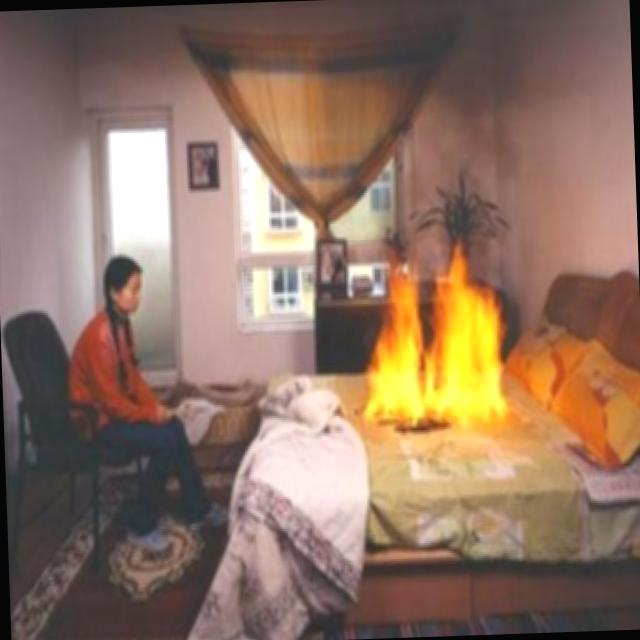fire: (360, 220, 524, 454)
